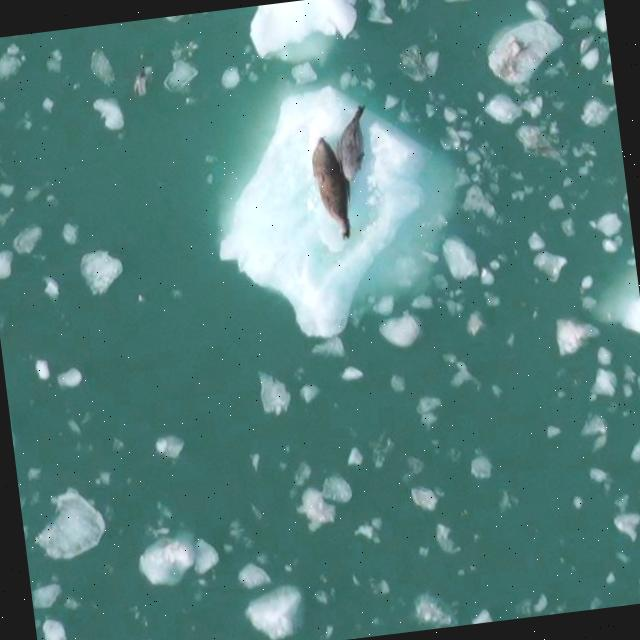seal: (311, 137, 351, 241), (341, 108, 363, 180)
